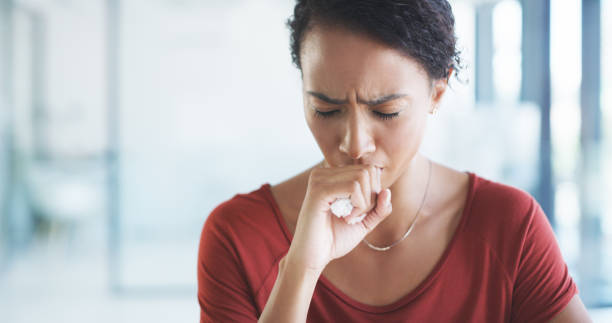without mask: (293, 19, 450, 200)
